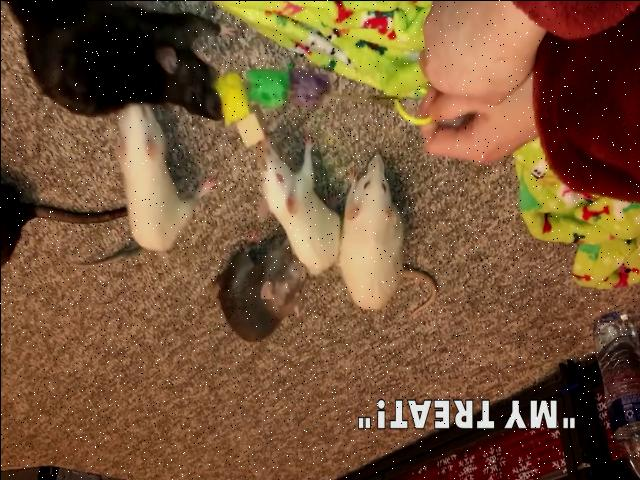Tikus: (20, 0, 225, 114), (111, 108, 200, 252), (338, 146, 404, 316), (260, 145, 334, 275), (217, 237, 300, 343)
